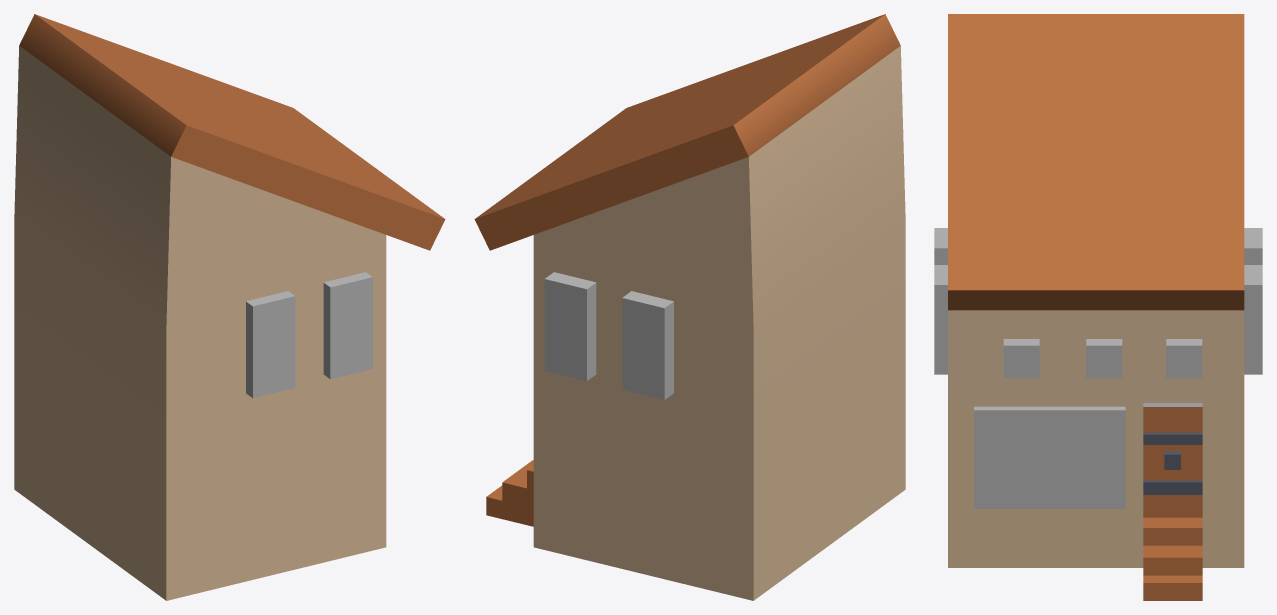
File: House.fbx
The picture shows the model from 3 angles, left to right: view 1: azimuth 30°, elevation 25°; view 2: azimuth 150°, elevation 25°; view 3: azimuth 270°, elevation 25°; orthographic projection. The views are drawn at different scales.
Parts seen in each view (by area): view 1: pCube45, pCube46, pCube47; view 2: pCube45, pCube40, pCube50, pCube41; view 3: pCube45, pCube43, pCube51, pCube41, pCube40, pCube46, pCube42, pCube48, pCube49, pCube50, pCube47.
Boxes of the visible parts, box(x1,y1,x2,y2) form: pCube45: box(14, 14, 445, 600); pCube46: box(323, 272, 372, 379); pCube47: box(246, 291, 295, 398); pCube45: box(474, 14, 905, 600); pCube40: box(544, 272, 596, 380); pCube50: box(622, 291, 673, 399); pCube41: box(486, 460, 533, 526); pCube45: box(948, 14, 1244, 567); pCube43: box(974, 406, 1125, 508); pCube51: box(1143, 403, 1202, 517); pCube41: box(1143, 517, 1202, 600); pCube40: box(1244, 265, 1262, 374); pCube46: box(934, 265, 947, 374); pCube42: box(1003, 339, 1039, 378); pCube48: box(1166, 339, 1202, 378); pCube49: box(1086, 339, 1122, 378); pCube50: box(1244, 228, 1262, 264); pCube47: box(934, 228, 947, 264).
Bounding box in the file's own units: 5.48 × 8.55 × 5.54.
